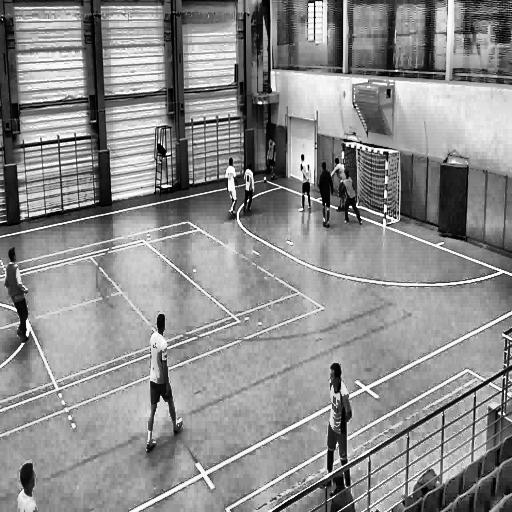ball: (262, 175, 268, 184)
player: (140, 313, 188, 452), (324, 356, 352, 492), (5, 246, 30, 347), (330, 152, 353, 214), (340, 172, 362, 227), (317, 157, 334, 228), (297, 148, 313, 214), (225, 154, 238, 218), (243, 163, 256, 220), (265, 134, 278, 182)
